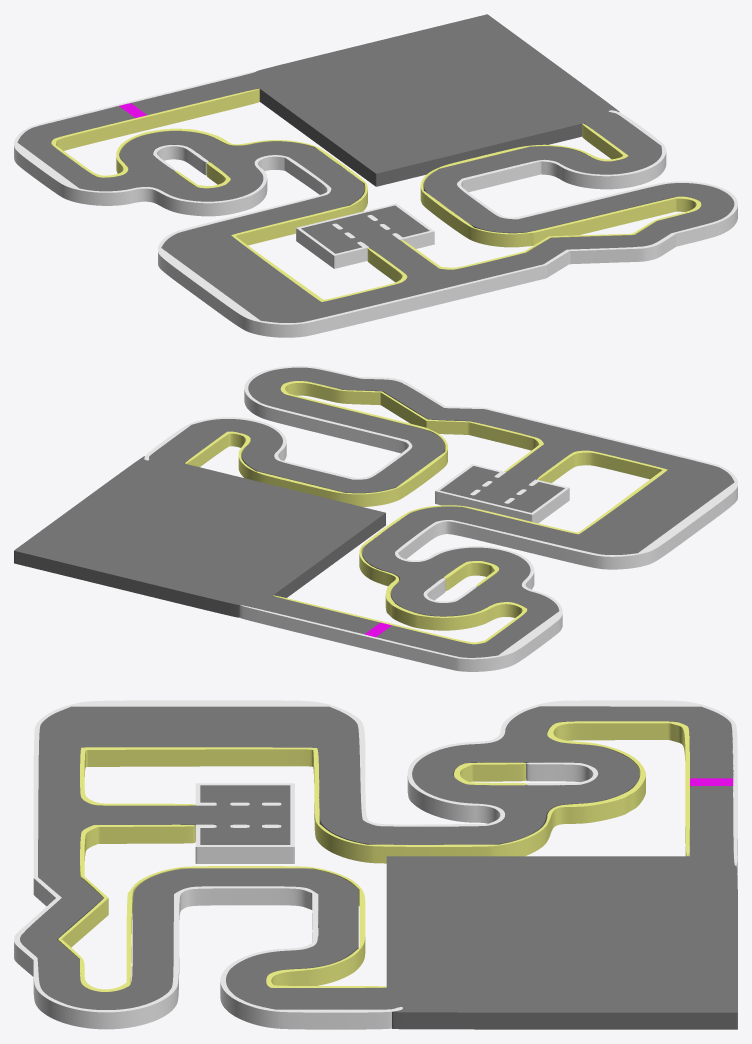
The model's file is course.dae.
3 renders of one model, top to bottom at view 1: azimuth 30°, elevation 25°; view 2: azimuth 150°, elevation 25°; view 3: azimuth 270°, elevation 25°, orthographic. The views are drawn at different scales.
Visible parts, largest first — view 1: node_1, node_2, node_3, node_16, node_18, node_0, node_17, node_19, node_4, node_5, node_6; view 2: node_1, node_2, node_18, node_3, node_0, node_16, node_17, node_19, node_4, node_5, node_20; view 3: node_1, node_16, node_2, node_3, node_0, node_18, node_17, node_19, node_4, node_5, node_6, node_20.
Part boxes in pixels (<box>): node_1: <box>17,14,734,322</box>; node_2: <box>14,73,737,337</box>; node_3: <box>14,71,737,324</box>; node_16: <box>51,89,402,282</box>; node_18: <box>400,124,699,254</box>; node_0: <box>52,88,695,250</box>; node_17: <box>51,88,407,301</box>; node_19: <box>401,123,701,269</box>; node_4: <box>296,228,434,268</box>; node_5: <box>296,203,434,255</box>; node_6: <box>153,146,206,175</box>; node_1: <box>14,367,734,657</box>; node_2: <box>240,386,737,671</box>; node_18: <box>186,383,539,506</box>; node_3: <box>144,366,737,659</box>; node_0: <box>14,380,629,617</box>; node_16: <box>273,452,661,644</box>; node_17: <box>273,450,667,644</box>; node_19: <box>185,381,543,494</box>; node_4: <box>435,477,569,523</box>; node_5: <box>435,464,569,514</box>; node_20: <box>445,563,498,590</box>; node_1: <box>20,706,737,1012</box>; node_16: <box>84,723,689,863</box>; node_2: <box>14,706,737,1029</box>; node_3: <box>14,700,737,1012</box>; node_0: <box>57,721,737,1029</box>; node_18: <box>58,826,386,991</box>; node_17: <box>80,721,689,856</box>; node_19: <box>58,824,385,991</box>; node_4: <box>195,805,294,863</box>; node_5: <box>195,783,294,846</box>; node_6: <box>526,764,595,785</box>; node_20: <box>454,763,526,785</box>.
Bounding box in the file's own units: 3.95 × 3.87 × 0.1.
